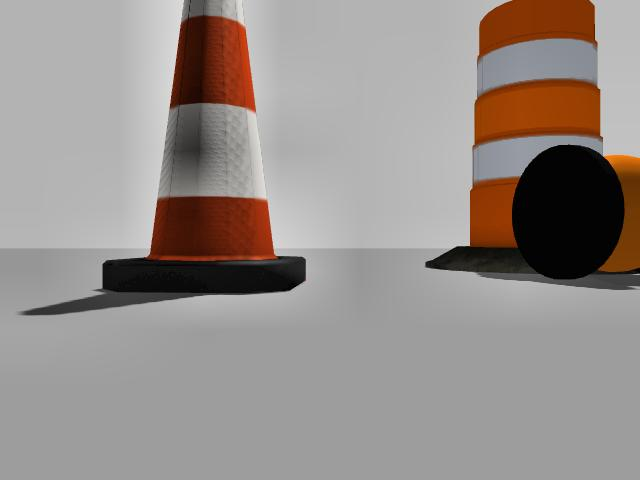target: (511, 144, 640, 281)
